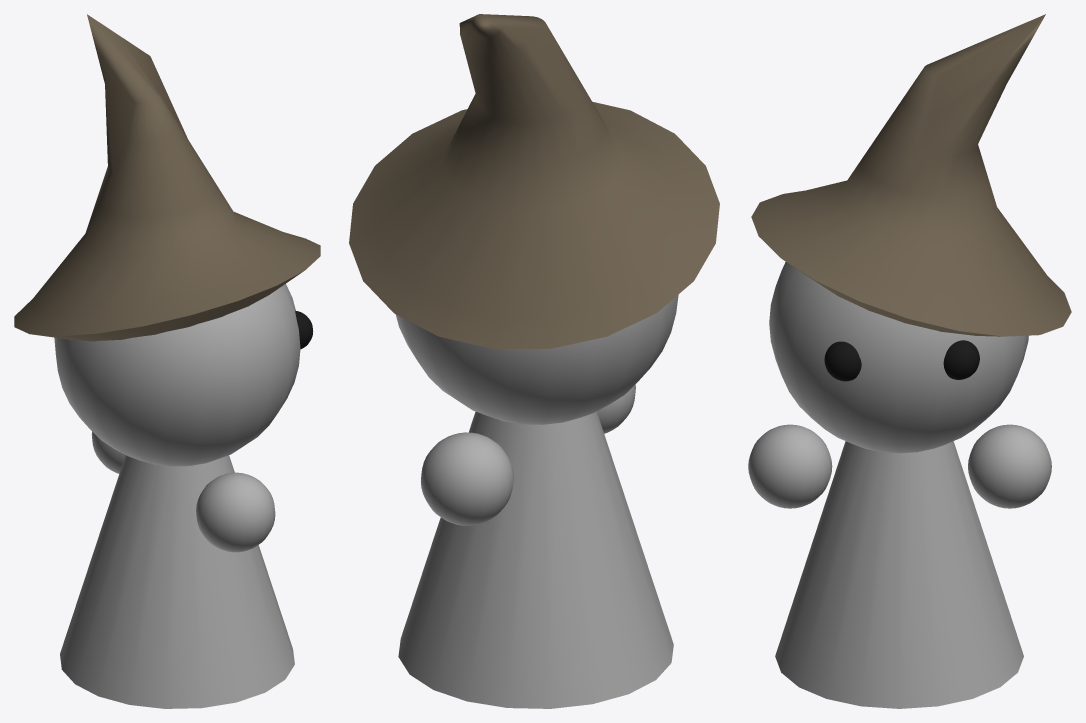
Rendered from Witch_Pjäs.fbx.
3 views of the same model, side by side, from view 1: azimuth 30°, elevation 25°; view 2: azimuth 150°, elevation 25°; view 3: azimuth 270°, elevation 25° (orthographic). The views are drawn at different scales.
Visible parts, largest first — view 1: pSphere2, pCone2, pSphere19, pSphere18; view 2: pCone2, pSphere2, pSphere18, pSphere19; view 3: pSphere2, pCone2, pSphere19, pSphere18, pSphere3, pSphere4.
Boxes of the visible parts, x1=… form: pSphere2: x1=54, y1=284, x2=300, y2=708; pCone2: x1=14, y1=14, x2=320, y2=341; pSphere19: x1=196, y1=472, x2=275, y2=552; pSphere18: x1=91, y1=431, x2=125, y2=473; pCone2: x1=349, y1=14, x2=719, y2=348; pSphere2: x1=395, y1=294, x2=678, y2=708; pSphere18: x1=421, y1=432, x2=513, y2=525; pSphere19: x1=597, y1=384, x2=635, y2=433; pSphere2: x1=769, y1=262, x2=1028, y2=708; pCone2: x1=751, y1=14, x2=1071, y2=336; pSphere19: x1=748, y1=424, x2=832, y2=508; pSphere18: x1=968, y1=424, x2=1051, y2=508; pSphere3: x1=824, y1=341, x2=861, y2=381; pSphere4: x1=943, y1=340, x2=979, y2=379.
Bounding box in the file's own units: 3.15 × 6.58 × 3.05.
